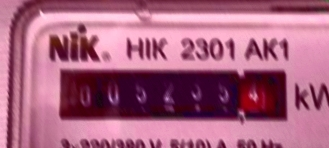0: (77, 82, 93, 108), (106, 79, 120, 104)
2: (161, 78, 175, 103)
3: (189, 75, 203, 100)
4: (246, 79, 261, 105)
5: (216, 76, 231, 103), (133, 78, 148, 104)
screen: (50, 58, 299, 130)
